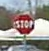stop: (13, 13, 34, 34)
